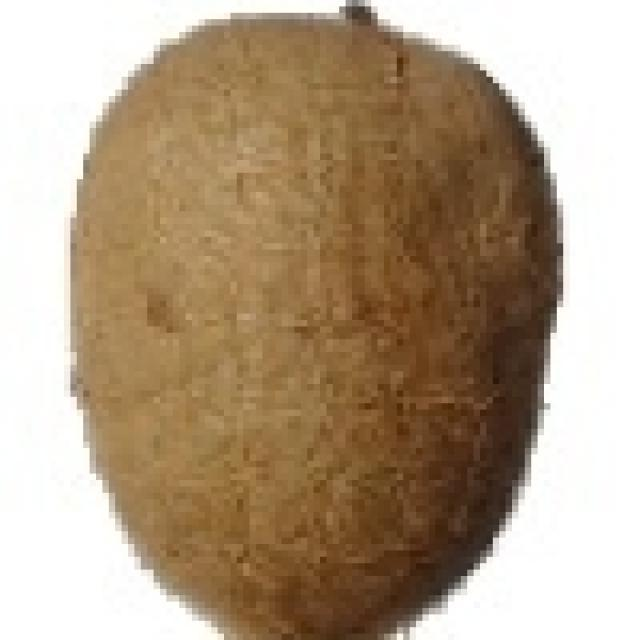kiwi: (64, 0, 544, 627)
